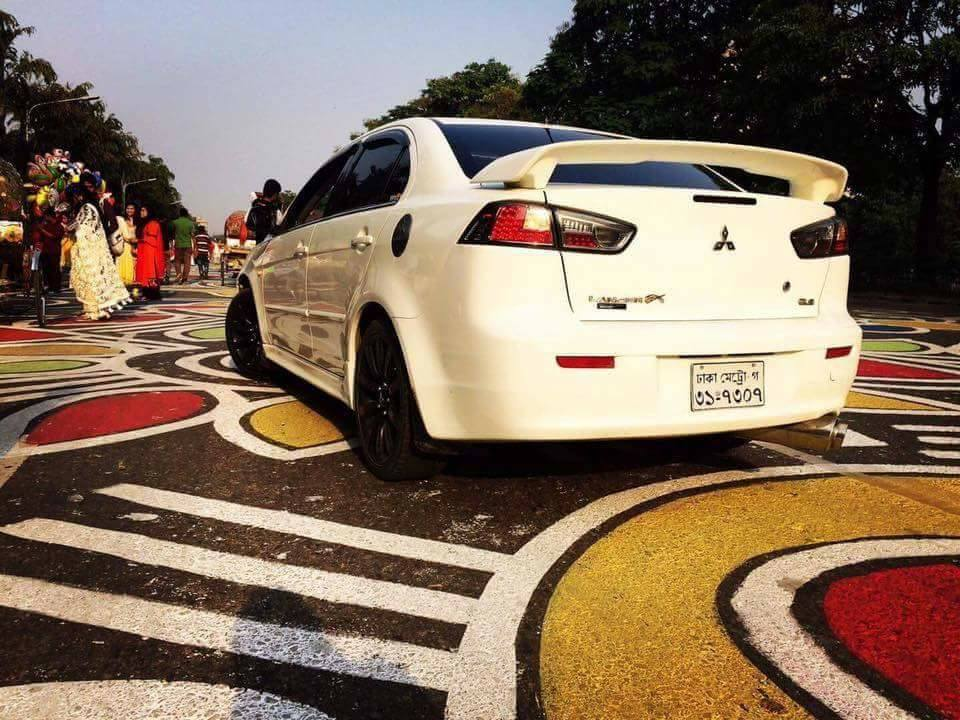registration_plate: (691, 360, 765, 412)
